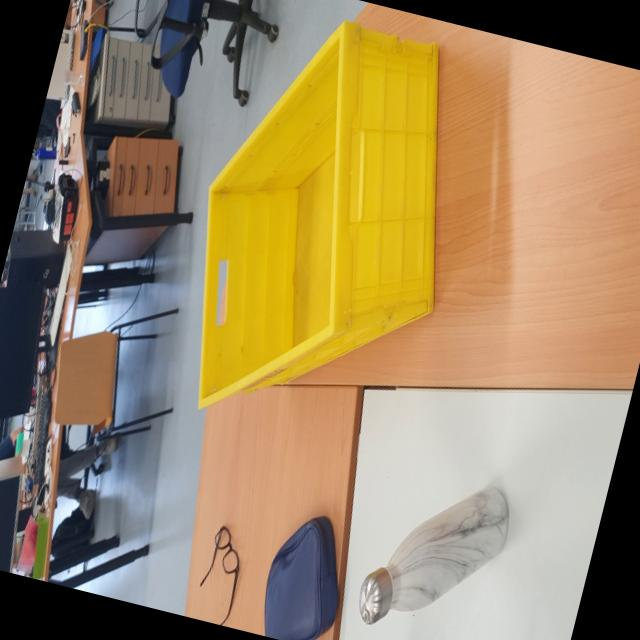box: (142, 0, 500, 478)
